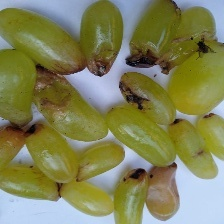grapes: (46, 54, 192, 193)
